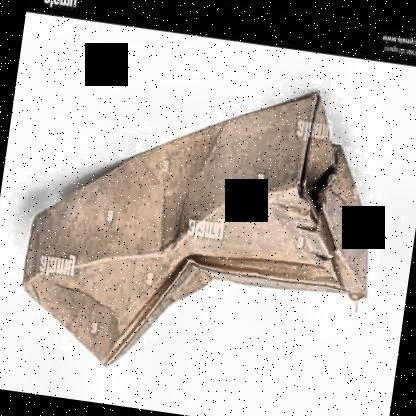defect parcel: (0, 40, 404, 416)
